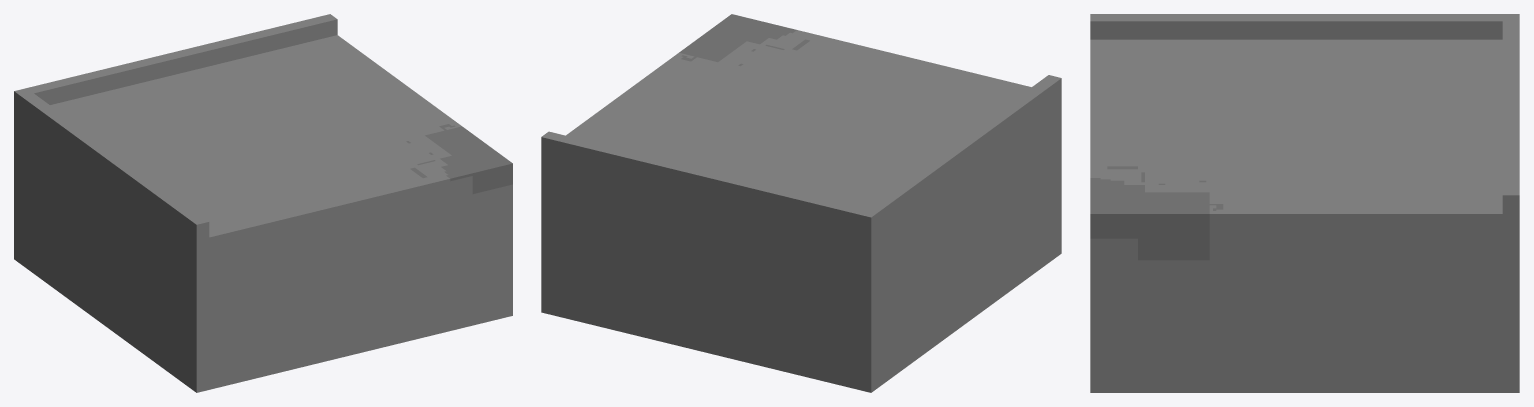
Rendered from 4x2 roof (1)-5.obj.
The picture shows the model from 3 angles, left to right: view 1: azimuth 30°, elevation 25°; view 2: azimuth 150°, elevation 25°; view 3: azimuth 270°, elevation 25°; orthographic projection. The views are drawn at different scales.
Parts seen in each view (by area): view 1: 4x2 roof (1)-5; view 2: 4x2 roof (1)-5; view 3: 4x2 roof (1)-5.
Part boxes in pixels (x1,y1,x2,y2): 4x2 roof (1)-5: [14, 14, 512, 392]; 4x2 roof (1)-5: [541, 14, 1061, 392]; 4x2 roof (1)-5: [1090, 14, 1519, 392].
Bounding box in the file's own units: 126 × 64 × 126.
1 material, 1 textured.
